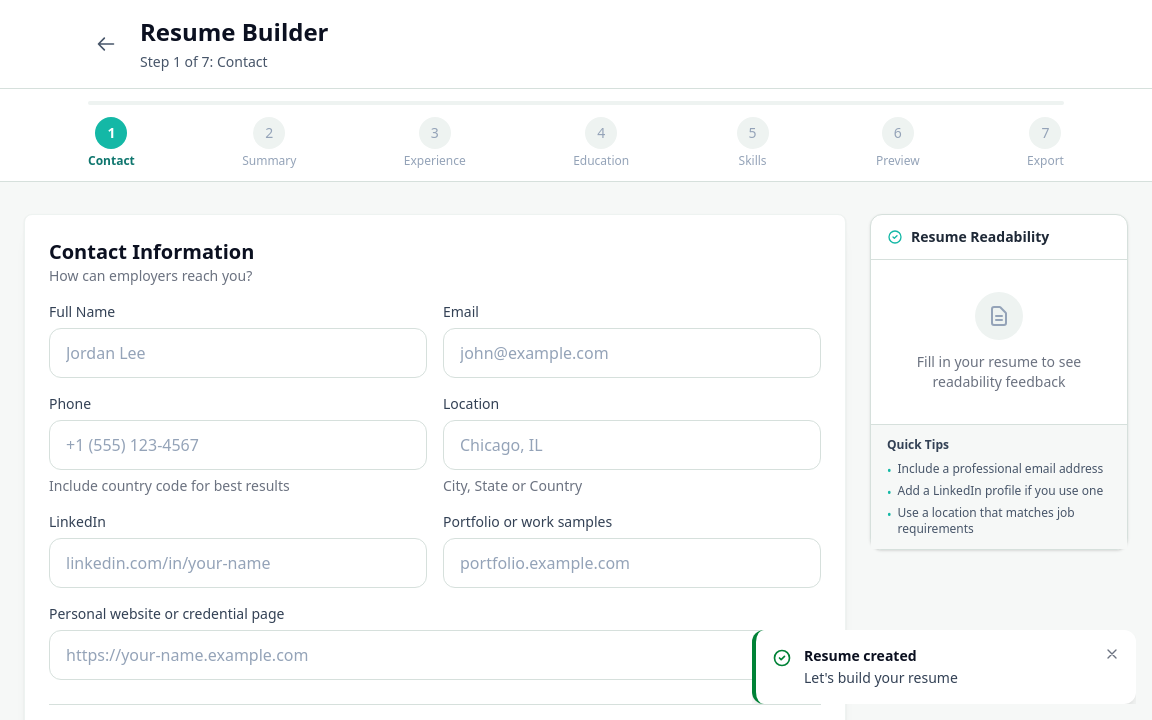
Test: ResumeBuilder › waits until the name field is touched before showing its required error
The width and height of the screenshot is (1152, 720).
Expected: the text "Add your name." is not shown
Step 1. Click the field labelled "Full Name" → click(238, 353), box x1=49 y1=328 x2=427 y2=378
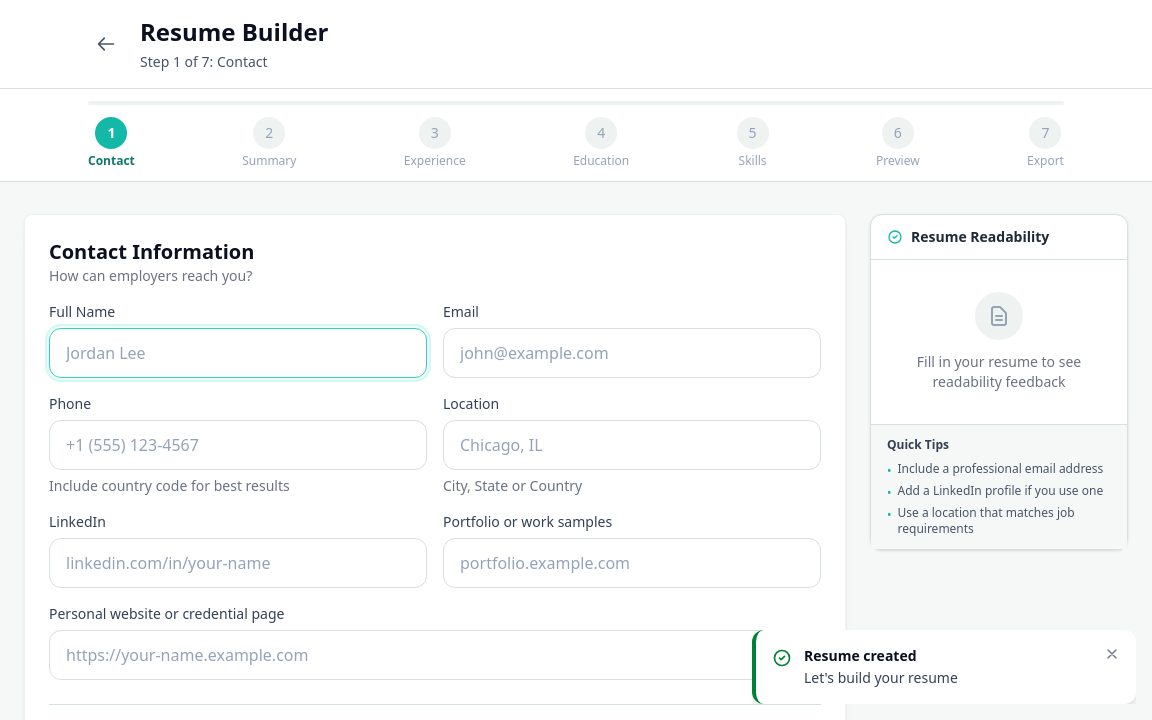
Step 2. Press Tab
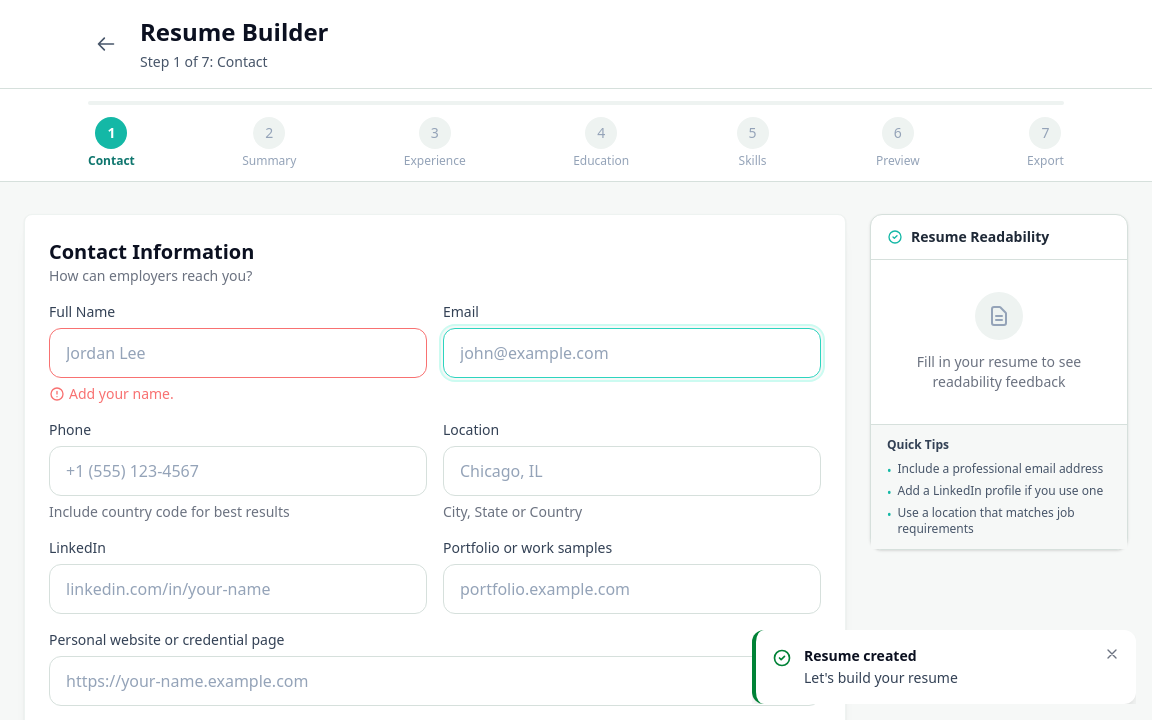
Now the text "Add your name." is shown, box x1=49 y1=384 x2=174 y2=403
